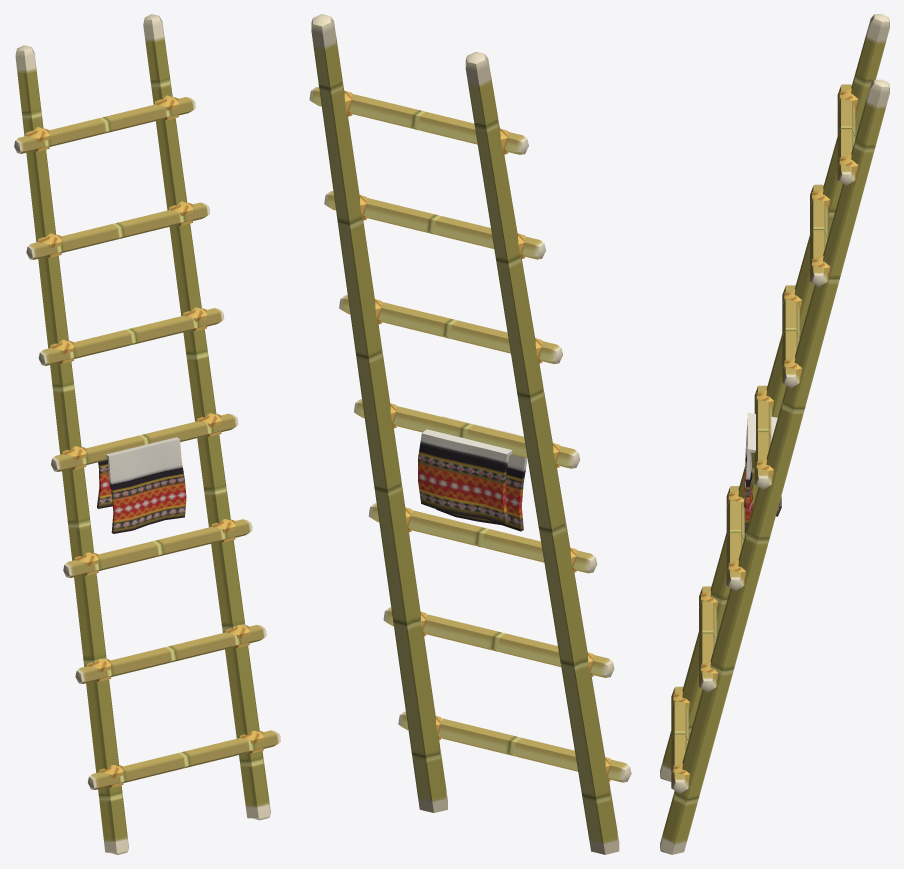
File: bamboo_ladder.glb
The picture shows the model from 3 angles, left to right: view 1: azimuth 30°, elevation 25°; view 2: azimuth 150°, elevation 25°; view 3: azimuth 270°, elevation 25°; orthographic projection. The views are drawn at different scales.
Parts seen in each view (by area): view 1: bamboo_ladder; view 2: bamboo_ladder; view 3: bamboo_ladder.
Boxes of the visible parts, x1=… form: bamboo_ladder: x1=14, y1=14, x2=280, y2=854; bamboo_ladder: x1=309, y1=14, x2=631, y2=854; bamboo_ladder: x1=660, y1=14, x2=889, y2=854.
Size of the model in its own units: 0.9333 by 3.39 by 0.9216.
Materials: 1 (1 with a texture image).
